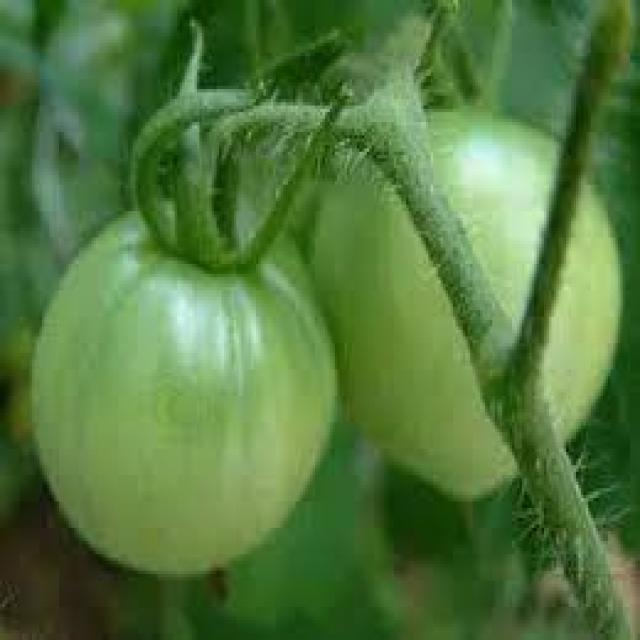organic waste: (310, 96, 616, 504), (27, 188, 332, 577)
